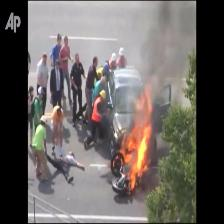fire: (116, 86, 165, 200)
nofire: (84, 85, 110, 130)
smoke: (138, 0, 194, 88)
